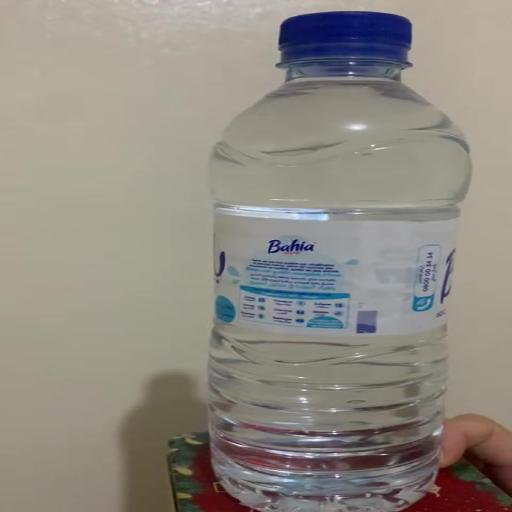bouteille conformite: (198, 9, 486, 512)
